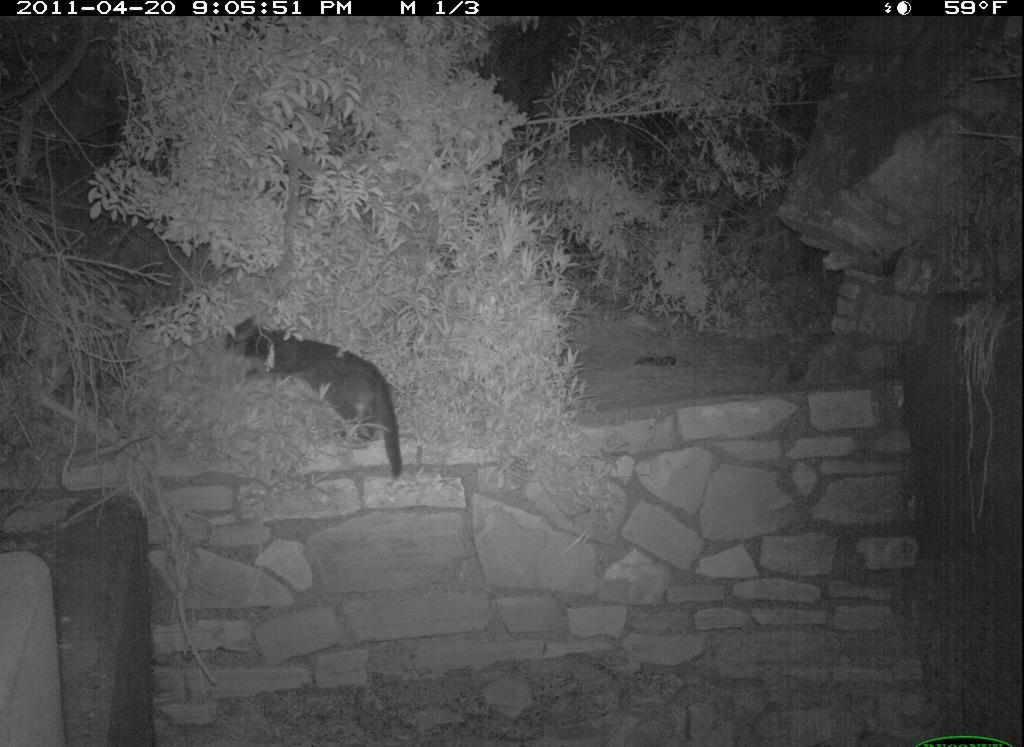cat: (198, 301, 429, 520)
